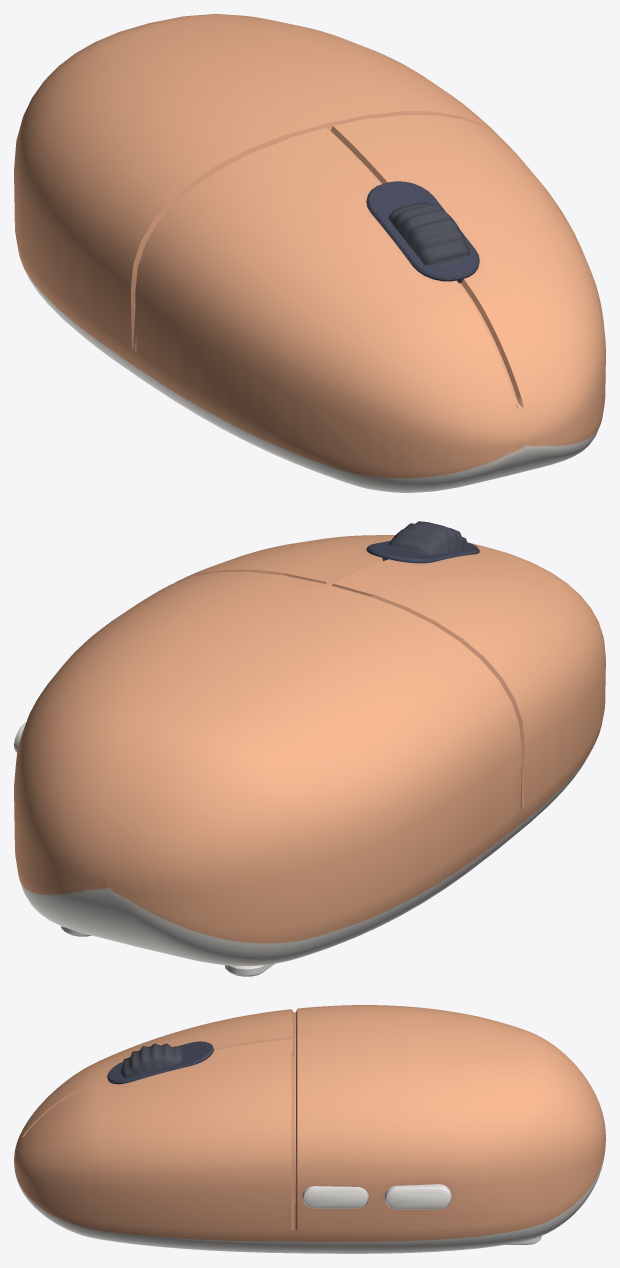
Rendered from ergonomic.glb.
The picture shows the model from 3 angles, top to bottom: view 1: azimuth 30°, elevation 25°; view 2: azimuth 150°, elevation 25°; view 3: azimuth 270°, elevation 25°; orthographic projection. The views are drawn at different scales.
Parts seen in each view (by area): view 1: computer-mouse_body, computer-mouse_wheel; view 2: computer-mouse_body, computer-mouse_wheel; view 3: computer-mouse_body, computer-mouse_wheel.
Part boxes in pixels (x1,y1,x2,y2): computer-mouse_body: (14, 14, 605, 492); computer-mouse_wheel: (388, 202, 469, 265); computer-mouse_body: (14, 535, 605, 976); computer-mouse_wheel: (389, 521, 469, 554); computer-mouse_body: (14, 1005, 605, 1253); computer-mouse_wheel: (121, 1043, 181, 1077).
Size of the model in its own units: 0.0642 by 0.038 by 0.115.
Materials: 2 (2 with a texture image).
